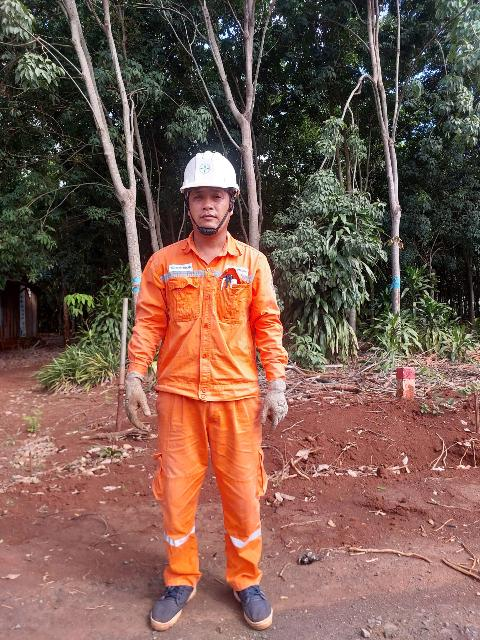gloves: (113, 367, 158, 437), (258, 358, 298, 433)
helmet: (168, 152, 246, 192)
shoes: (123, 554, 196, 632), (223, 574, 283, 637)
